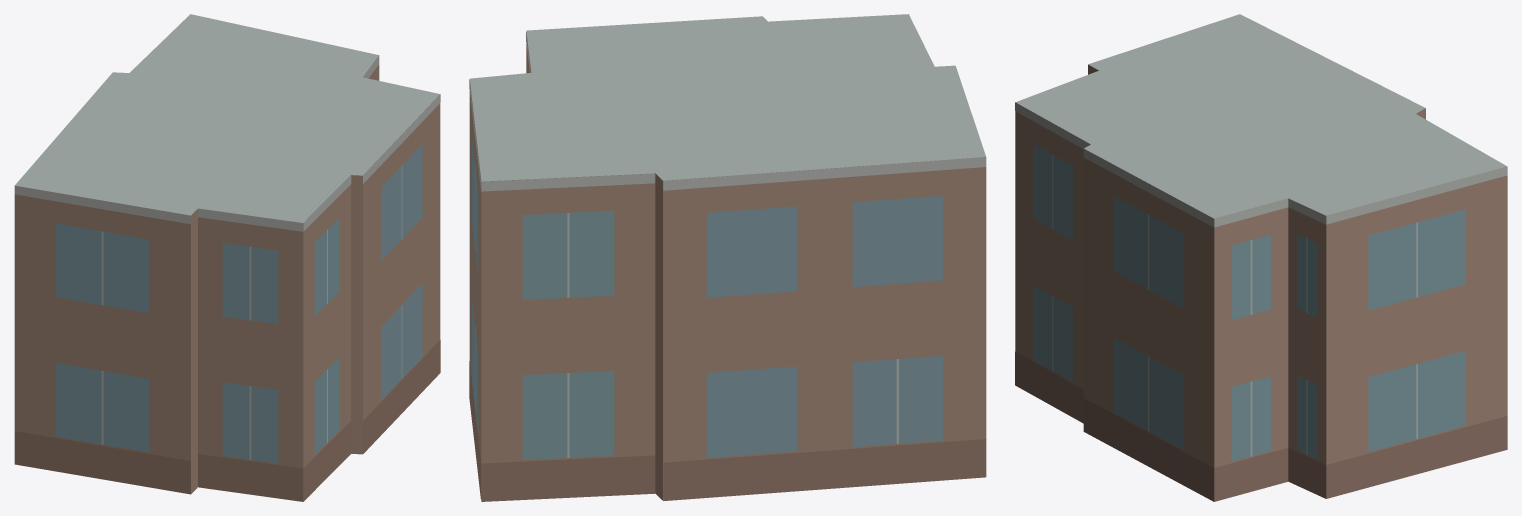
File: survey-upis-32748182.glb
3 renders of one model, left to right at view 1: azimuth 30°, elevation 25°; view 2: azimuth 150°, elevation 25°; view 3: azimuth 270°, elevation 25°, orthographic. The views are drawn at different scales.
Visible parts, largest first — view 1: survey-upis-32748182.tmp; view 2: survey-upis-32748182.tmp; view 3: survey-upis-32748182.tmp.
Boxes of the visible parts, x1,y1,x2,y2 form: survey-upis-32748182.tmp: (14, 14, 440, 501); survey-upis-32748182.tmp: (469, 14, 986, 501); survey-upis-32748182.tmp: (1015, 14, 1507, 501).
Size of the model in its own units: 12.11 by 7.8 by 12.3.
